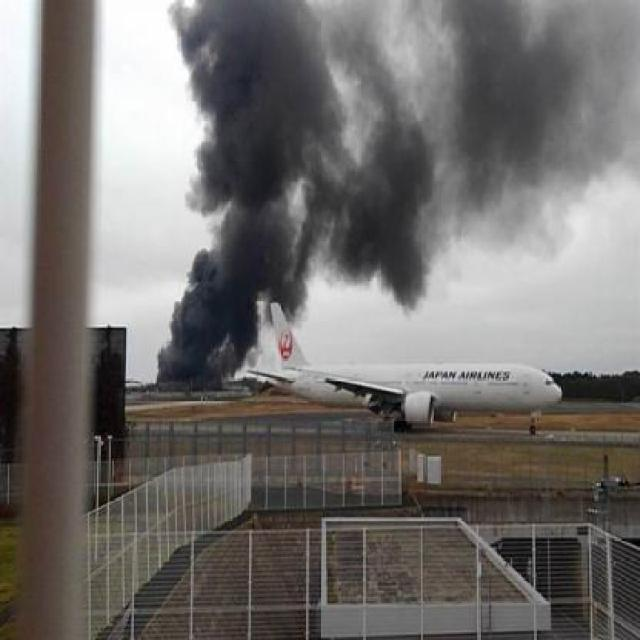Smoke: (157, 0, 640, 384)
